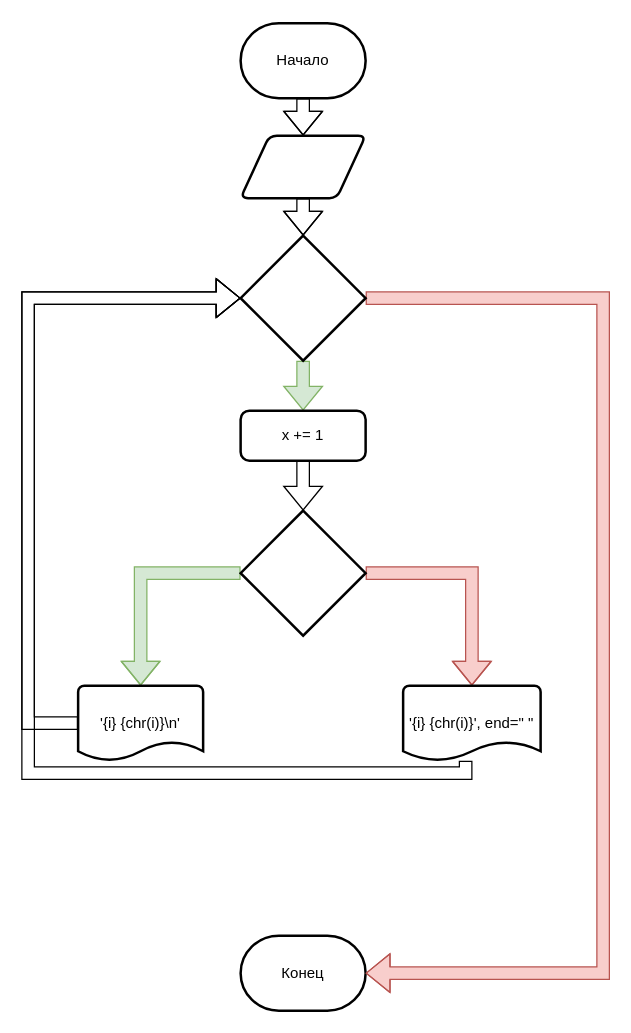
Image size: 631x1033. Some labels were removed from this diagram. The shapes that lost their labels are listed below. From the top down, each one's centre as x and y in pixels, then its label:
At (x=302, y=166): "x = 0".
At (x=302, y=297): "i != 127".
At (x=302, y=572): "x % 10 == 0".
